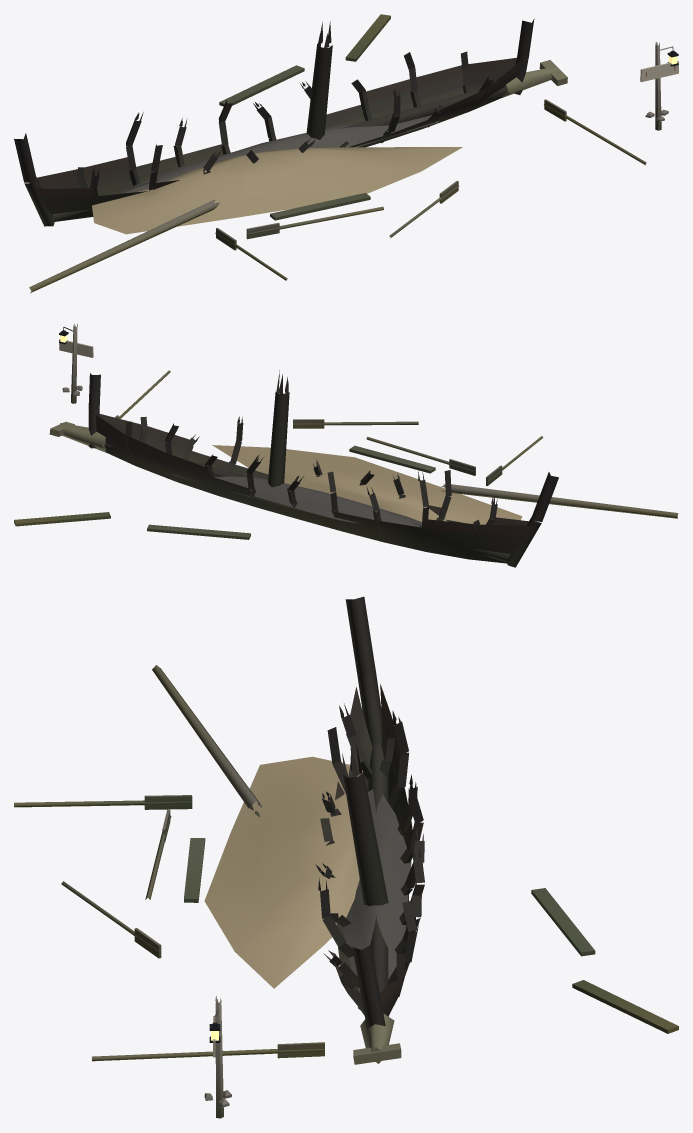
The model's file is wreck_burned.glb.
3 views of the same model, one above another, from view 1: azimuth 30°, elevation 25°; view 2: azimuth 150°, elevation 25°; view 3: azimuth 270°, elevation 25° (orthographic). The views are drawn at different scales.
Parts seen in each view (by area): view 1: hull, epitaph; view 2: hull, epitaph; view 3: hull, epitaph.
Boxes of the visible parts, x1,y1,x2,y2 form: hull: [14, 14, 646, 293]; epitaph: [640, 42, 678, 130]; hull: [14, 370, 678, 567]; epitaph: [59, 324, 93, 403]; hull: [14, 596, 678, 1064]; epitaph: [204, 995, 231, 1118].
Bounding box in the file's own units: 19.75 × 4.31 × 12.63.
